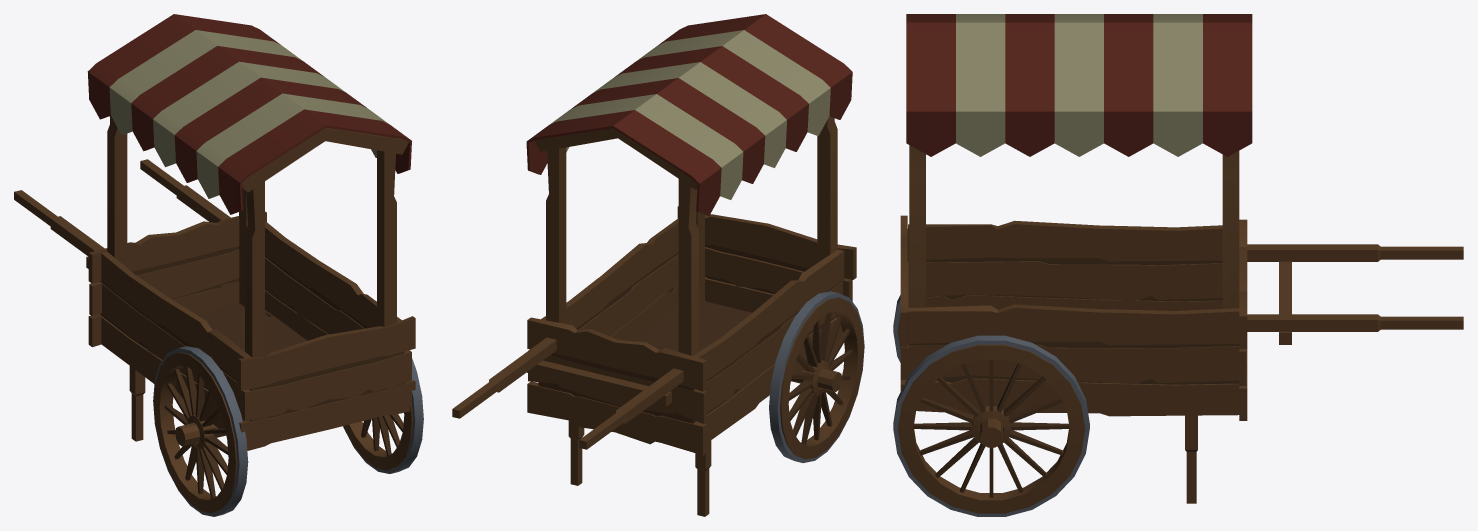
File: cart.fbx
3 views of the same model, side by side, from view 1: azimuth 30°, elevation 25°; view 2: azimuth 150°, elevation 25°; view 3: azimuth 270°, elevation 25° (orthographic). The views are drawn at different scales.
Visible parts, largest first — view 1: Cart; view 2: Cart; view 3: Cart.
Boxes of the visible parts, box(x1,y1,x2,y2) form: Cart: box(14, 14, 423, 516); Cart: box(452, 14, 864, 516); Cart: box(893, 14, 1463, 516).
Bounding box in the file's own units: 0.4982 × 0.8584 × 1.
